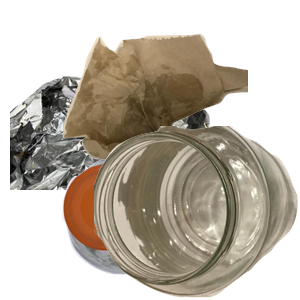glass: (94, 126, 300, 300)
metal: (10, 73, 212, 253)
plastic: (60, 152, 237, 300)
trash: (60, 31, 300, 189)
